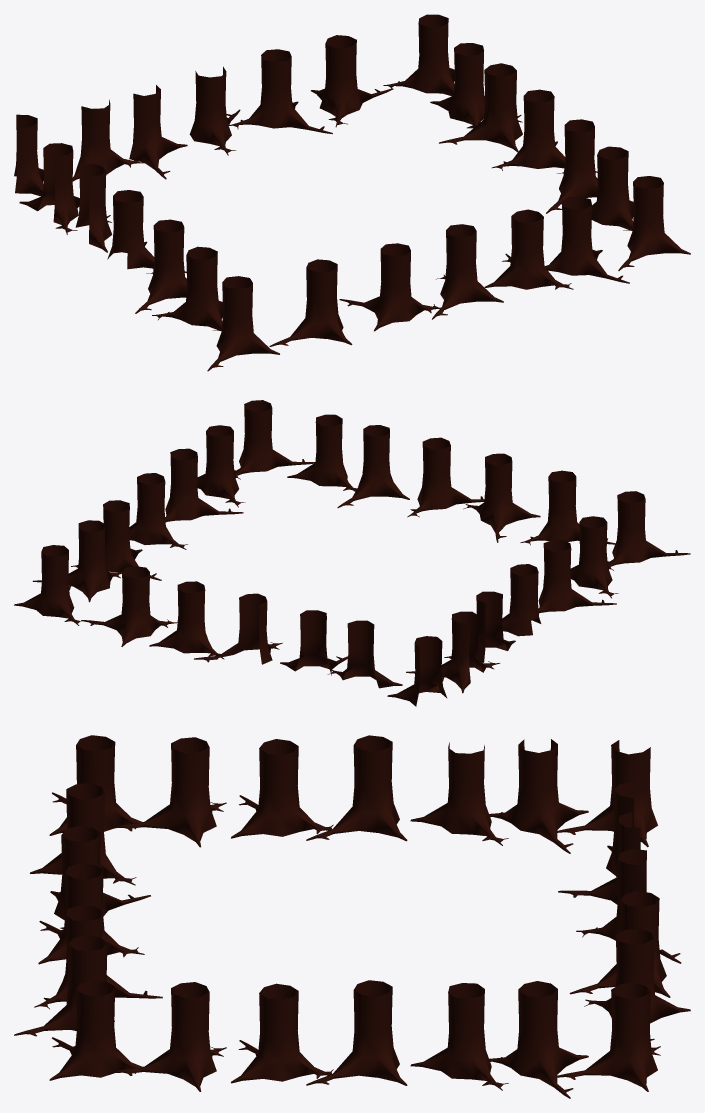
File: treescreen.obj
3 views of the same model, one above another, from view 1: azimuth 30°, elevation 25°; view 2: azimuth 150°, elevation 25°; view 3: azimuth 270°, elevation 25° (orthographic). The views are drawn at different scales.
Visible parts, largest first — view 1: Plane.015_Material.0172, Plane.008_Material.0102, Plane.016_Material.0182, Plane.021_Material.0252, Plane.023_Material.027, Plane.018_Material.0202, Plane.014_Material.0162, Plane.012_Material.0142, Plane.017_Material.0192, Plane.005_Material.0062, Plane.004_Material.0052, Plane.007_Material.0092 (+12 smaller); view 2: Plane.023_Material.027, Plane.016_Material.0182, Plane.014_Material.0162, Plane.012_Material.0142, Plane.005_Material.0062, Plane.009_Material.0112, Plane.013_Material.0152, Plane.002_Material.0032, Plane.021_Material.0252, Plane.015_Material.0172, Plane.017_Material.0192, Plane.010_Material.0122 (+12 smaller); view 3: Plane.010_Material.0122, Plane.002_Material.0032, Plane.009_Material.0112, Plane.013_Material.0152, Plane.004_Material.0052, Plane.011_Material.0132, Plane.012_Material.0142, Plane.007_Material.0092, Plane_Material.0012, Plane.003_Material.0072, Plane.008_Material.0102, Plane.001_Material.0022 (+12 smaller).
Part boxes in pixels (x1,y1,x2,y2): Plane.015_Material.0172: [484, 209, 573, 289]; Plane.008_Material.0102: [439, 63, 522, 152]; Plane.016_Material.0182: [339, 243, 440, 331]; Plane.021_Material.0252: [229, 49, 332, 134]; Plane.023_Material.027: [311, 35, 393, 127]; Plane.018_Material.0202: [269, 259, 352, 346]; Plane.014_Material.0162: [432, 224, 503, 319]; Plane.012_Material.0142: [618, 176, 690, 270]; Plane.017_Material.0192: [544, 196, 629, 283]; Plane.005_Material.0062: [207, 276, 279, 371]; Plane.004_Material.0052: [152, 246, 222, 331]; Plane.007_Material.0092: [492, 89, 597, 172]; Plane.023_Material.027: [81, 566, 177, 646]; Plane.016_Material.0182: [463, 453, 540, 542]; Plane.014_Material.0162: [407, 437, 484, 517]; Plane.012_Material.0142: [234, 400, 315, 479]; Plane.005_Material.0062: [607, 491, 690, 570]; Plane.009_Material.0112: [165, 448, 243, 522]; Plane.013_Material.0152: [14, 545, 82, 625]; Plane.002_Material.0032: [538, 539, 616, 613]; Plane.021_Material.0252: [149, 581, 224, 659]; Plane.015_Material.0172: [337, 425, 409, 507]; Plane.017_Material.0192: [287, 414, 357, 491]; Plane.010_Material.0122: [32, 520, 121, 602]; Plane.010_Material.0122: [489, 981, 588, 1098]; Plane.002_Material.0032: [231, 739, 333, 838]; Plane.009_Material.0112: [231, 983, 333, 1083]; Plane.013_Material.0152: [557, 982, 660, 1091]; Plane.004_Material.0052: [116, 737, 226, 847]; Plane.011_Material.0132: [116, 982, 226, 1091]; Plane.012_Material.0142: [49, 980, 143, 1080]; Plane.007_Material.0092: [306, 980, 407, 1085]; Plane_Material.0012: [306, 735, 407, 841]; Plane.003_Material.0072: [489, 739, 588, 853]; Plane.008_Material.0102: [410, 983, 508, 1090]; Plane.001_Material.0022: [410, 742, 508, 845].
Bounding box in the file's own units: 282 × 35.1 × 264.
